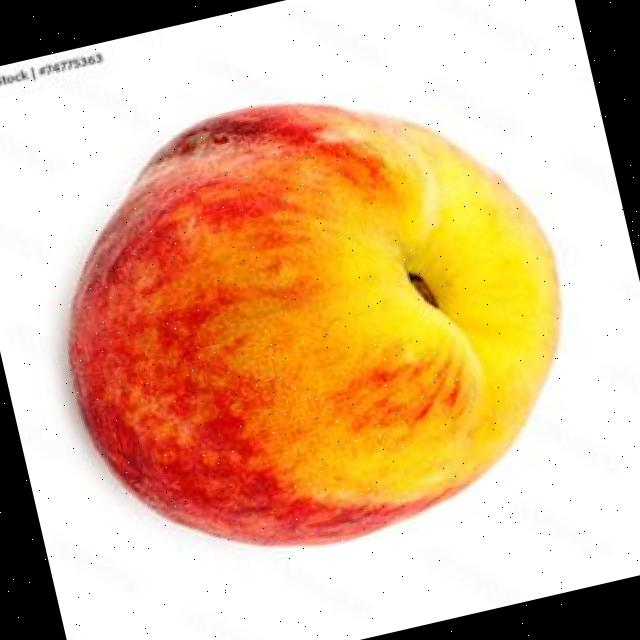peach: (70, 104, 556, 544)
